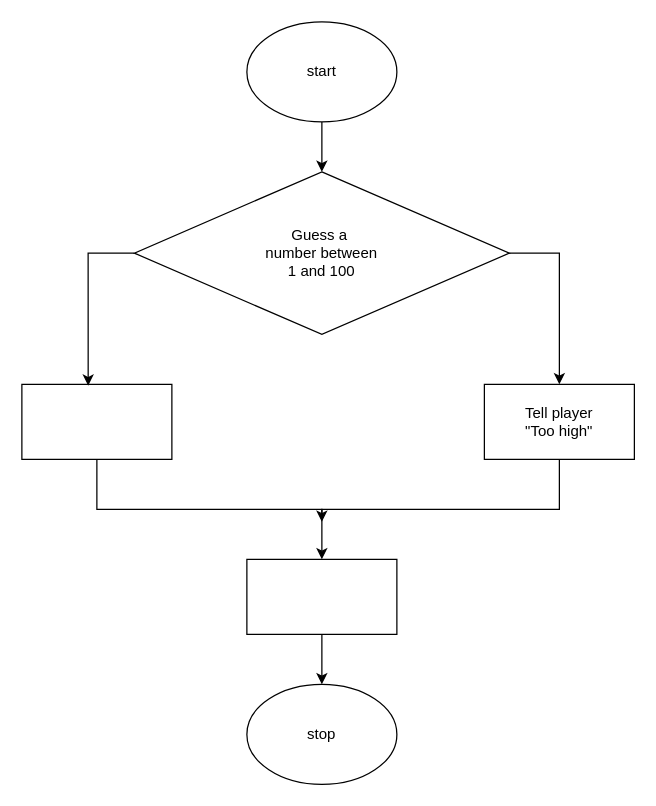
The diagram is 656 pixels wide and 806 high, and some of its shapes have lost their labels. The shapes that lost their labels are listed below. From the top down, each one's box as (x1, y1, x2, y2) in pixels, then its label:
(21, 383, 172, 459): Tell player "Too low"
(246, 558, 397, 634): Tell player "You guessed it!"
